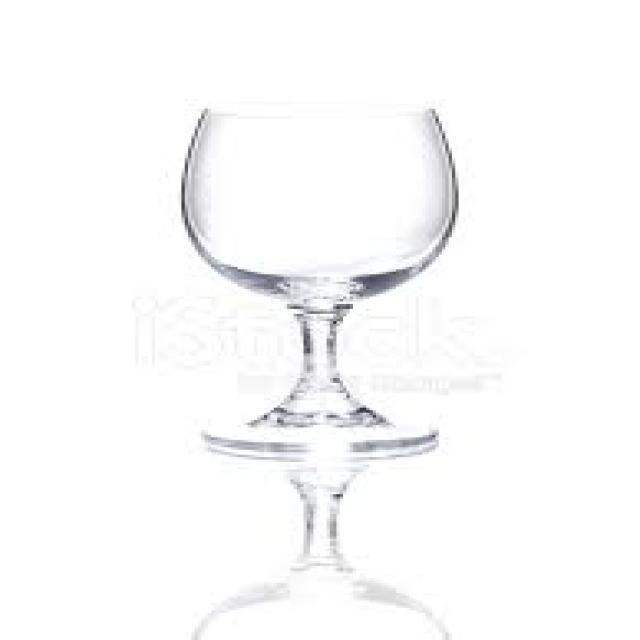glass: (185, 101, 455, 465)
